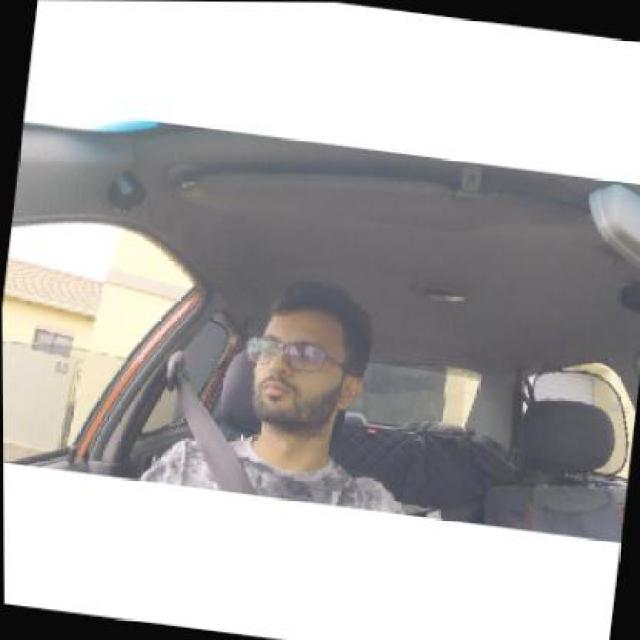LeftRight: (246, 270, 377, 452)
